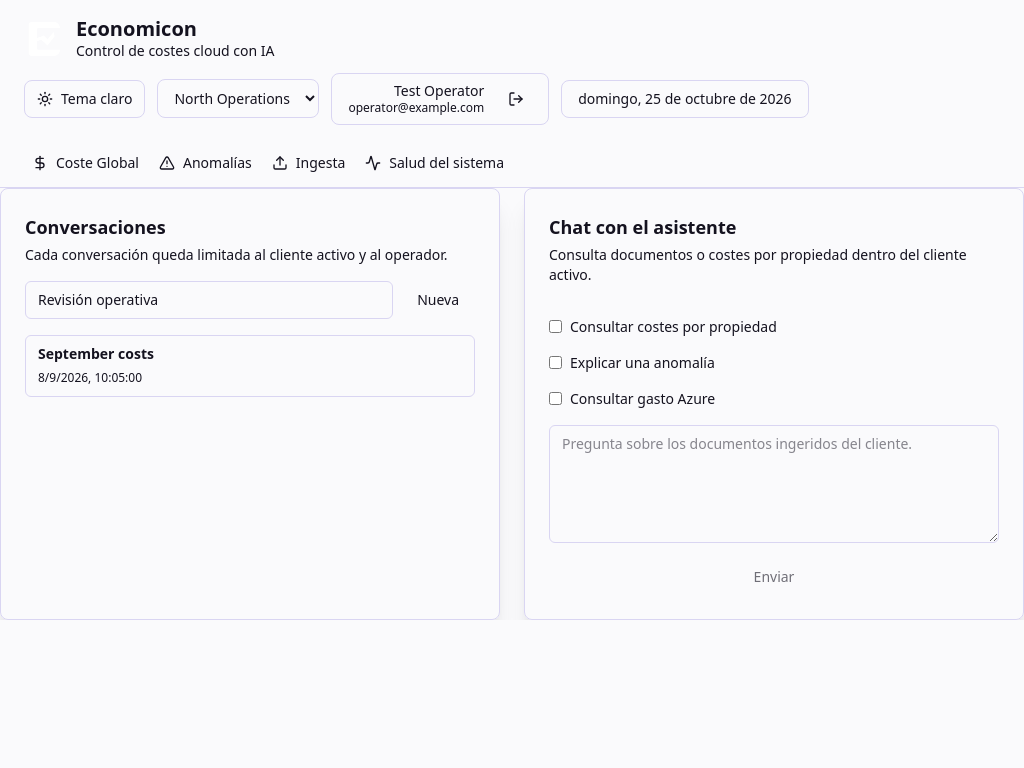
Test: JUP-038 enlace /assistant?episode=<id>: sin enlace nada cambia › sin parámetro el redactor aparece apagado y no se pide ninguna anomalía
expect the checkbox labelled "Consultar costes por propiedad" is not checked: met, box [549,320,562,333]
Note: Control: al activar el modo a mano si se pide la lista y no hay aviso de enlace.
Click the checkbox labelled "Explicar una anomalía" at (556, 362), box [549,356,562,369]
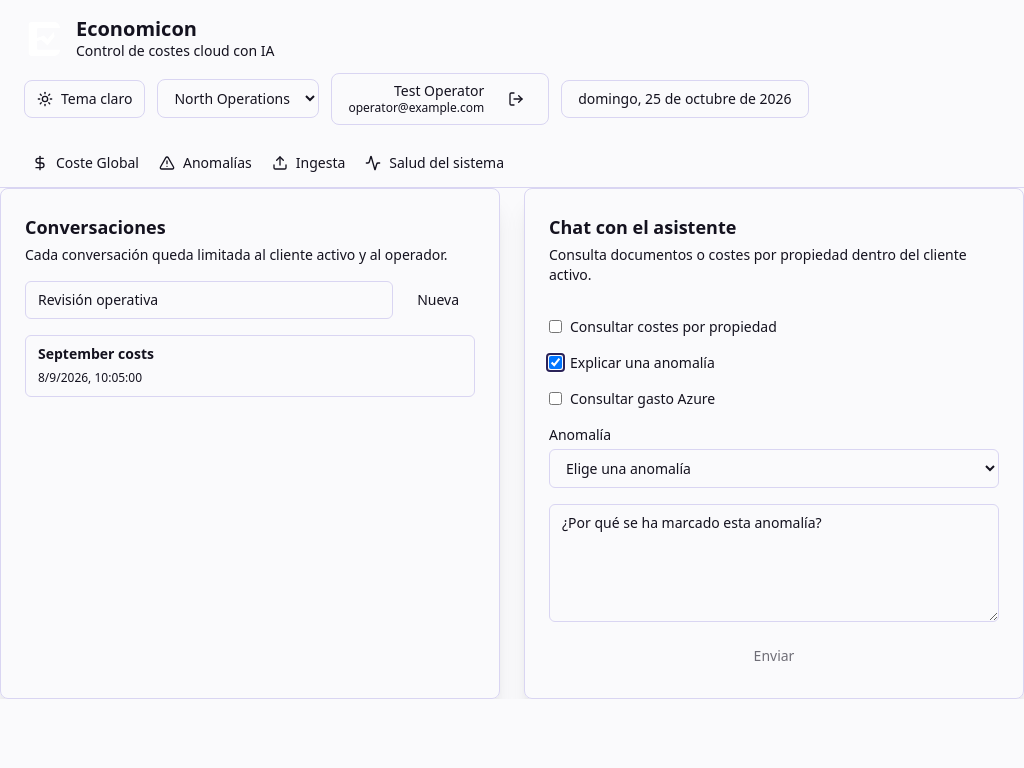
expect the dropdown labelled "Anomalía" is shown: met, box [549,448,999,488]
